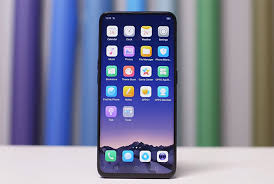oppo: (93, 9, 177, 181)
